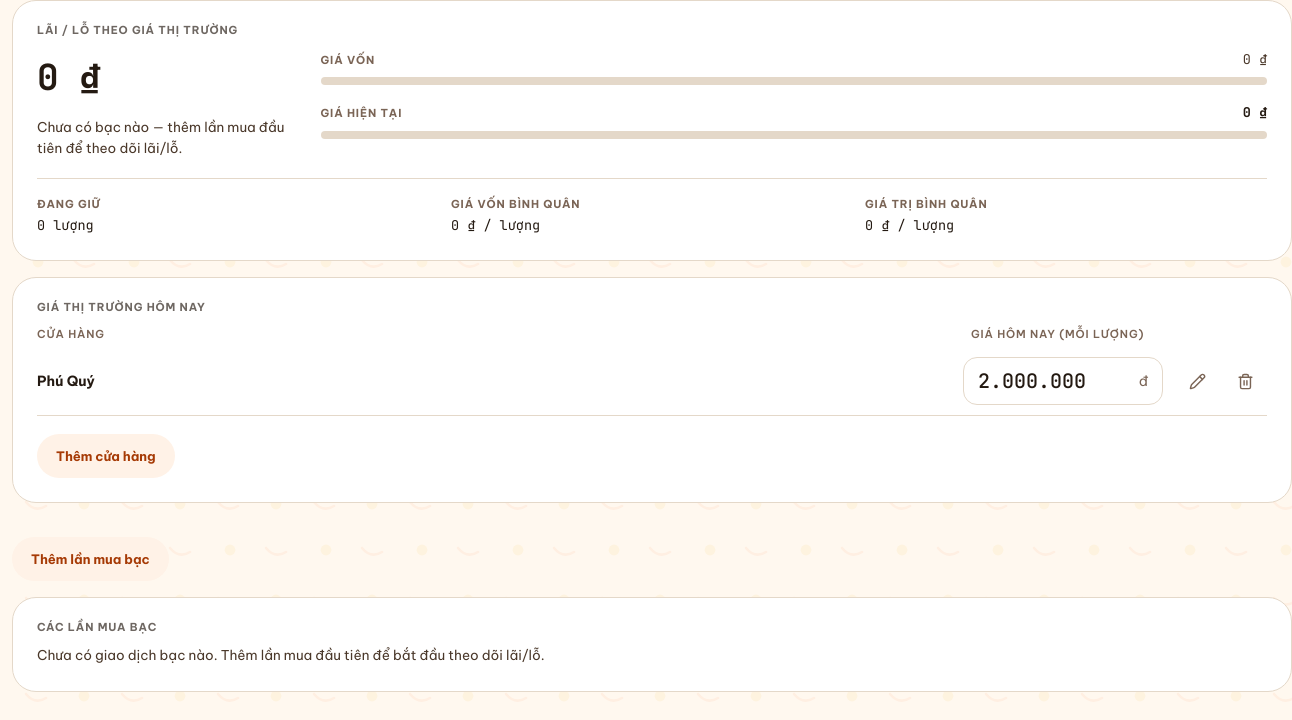
Scenario: SilverTab › prices silver stores per lượng and suggests a silver shop name
Check: the text "Giá hôm nay (mỗi lượng)" is shown, box [971,325,1171,343]
Check: the field named "Giá Phú Quý hôm nay (mỗi lượng)" holds "2.000.000", box [978,358,1131,404]
Click the button "Thêm cửa hàng" at (106, 456), box [37,434,175,478]
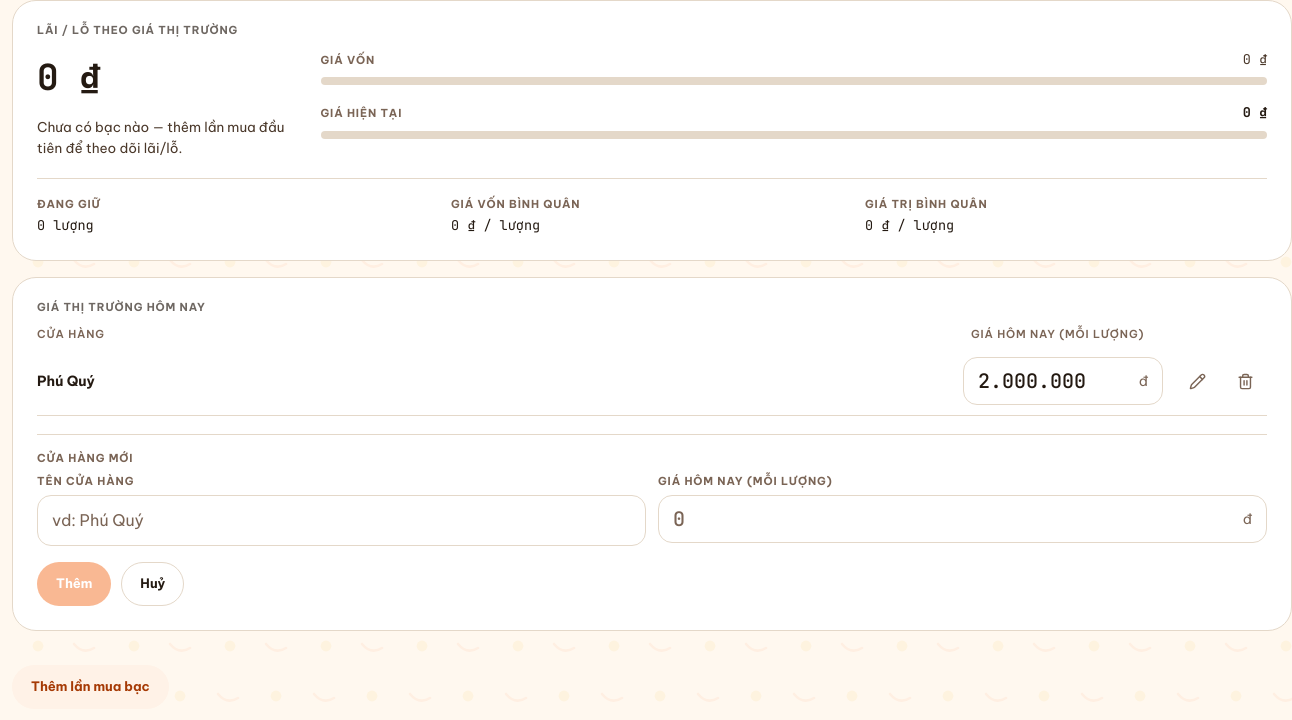
Check: the field labelled "Giá hôm nay (mỗi lượng)" is shown, box [673,496,1235,542]
